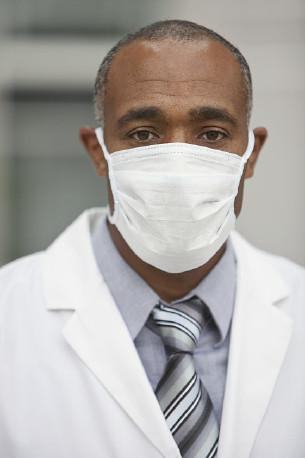OK: (99, 103, 253, 257)
